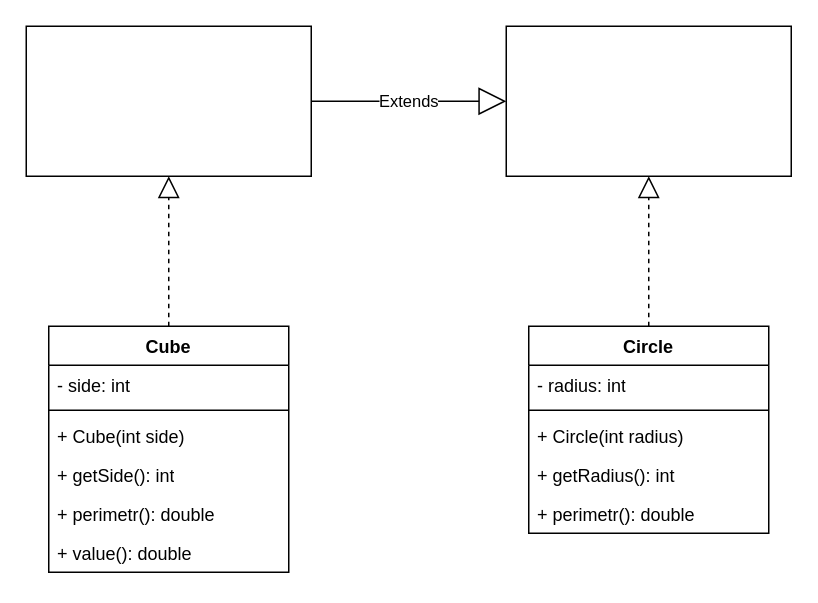
Some shapes in this 818 by 603 pixel diagram are drawn without their labels. The shapes that lost their labels are listed below. From the top down, each one's box as (x1, y1, x2, y2) in pixels, then its label:
(25, 25, 311, 176): <<Interface>> Shape3d + value(): double
(505, 25, 791, 176): <<Interface>> Shape + perimetr(): double
